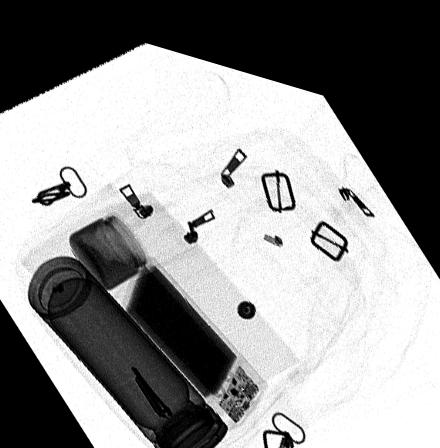Powerbank: (116, 247, 265, 412)
